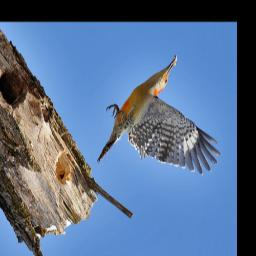Woodpecker: (96, 53, 222, 177)
